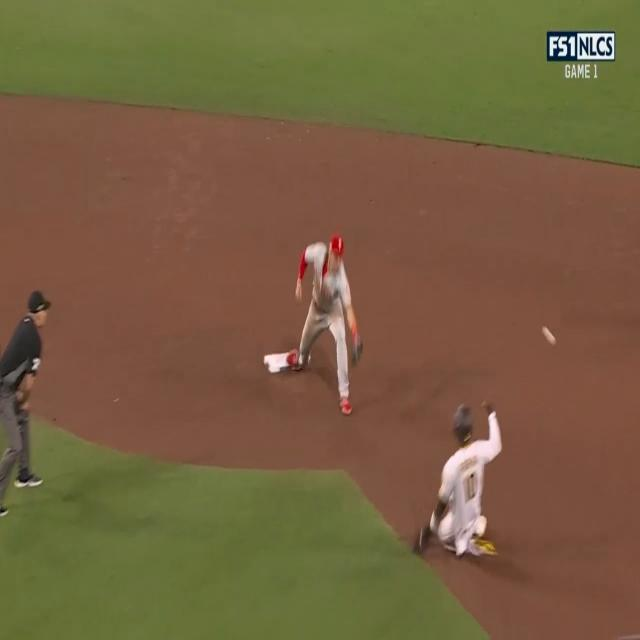baseball: (543, 325, 556, 346)
